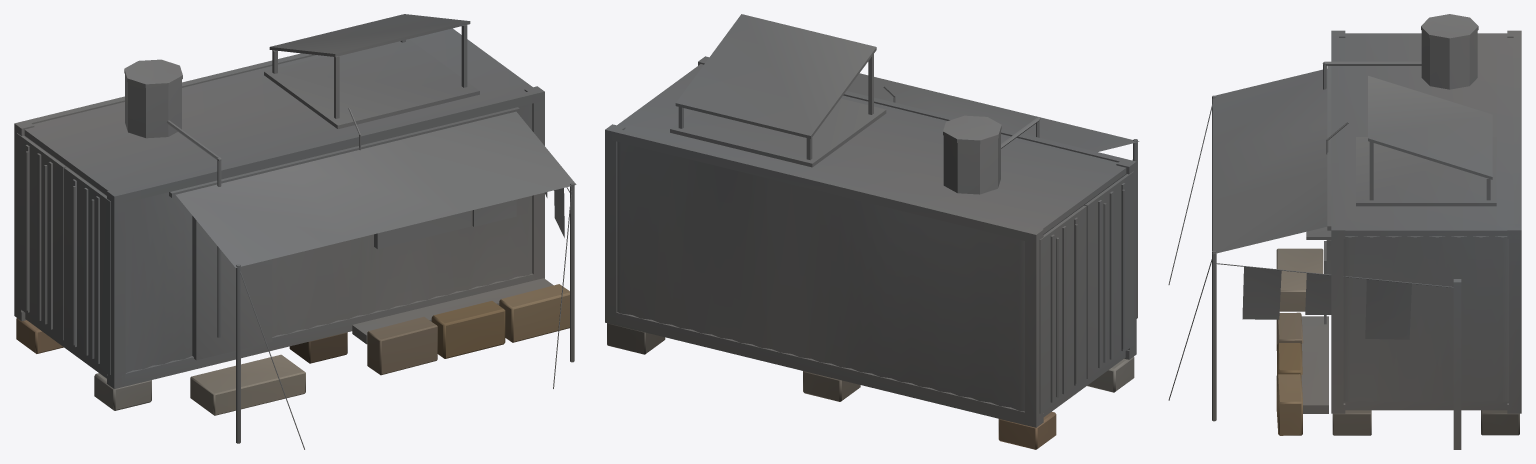
The model's file is WallHomeA_LOD1.glb.
3 views of the same model, side by side, from view 1: azimuth 30°, elevation 25°; view 2: azimuth 150°, elevation 25°; view 3: azimuth 270°, elevation 25° (orthographic). The views are drawn at different scales.
Parts seen in each view (by area): view 1: WallHomeA_Metal_LOD1, WallHomeA_Canvas_LOD1, WallHomeA_Rubble_LOD1, WallHomeA_Sand_LOD1; view 2: WallHomeA_Metal_LOD1, WallHomeA_Canvas_LOD1, WallHomeA_Rubble_LOD1; view 3: WallHomeA_Metal_LOD1, WallHomeA_Canvas_LOD1, WallHomeA_Rubble_LOD1, WallHomeA_Sand_LOD1.
Boxes of the visible parts, x1,y1,x2,y2 form: WallHomeA_Metal_LOD1: [14, 14, 574, 449]; WallHomeA_Canvas_LOD1: [175, 111, 576, 267]; WallHomeA_Rubble_LOD1: [16, 284, 569, 415]; WallHomeA_Sand_LOD1: [352, 278, 553, 344]; WallHomeA_Metal_LOD1: [605, 14, 1137, 427]; WallHomeA_Canvas_LOD1: [846, 73, 1139, 151]; WallHomeA_Rubble_LOD1: [607, 323, 1134, 449]; WallHomeA_Metal_LOD1: [1168, 14, 1521, 449]; WallHomeA_Canvas_LOD1: [1212, 69, 1411, 339]; WallHomeA_Rubble_LOD1: [1276, 248, 1519, 435]; WallHomeA_Sand_LOD1: [1301, 316, 1328, 413].
Bounding box in the file's own units: 6.56 × 3.85 × 4.53.
